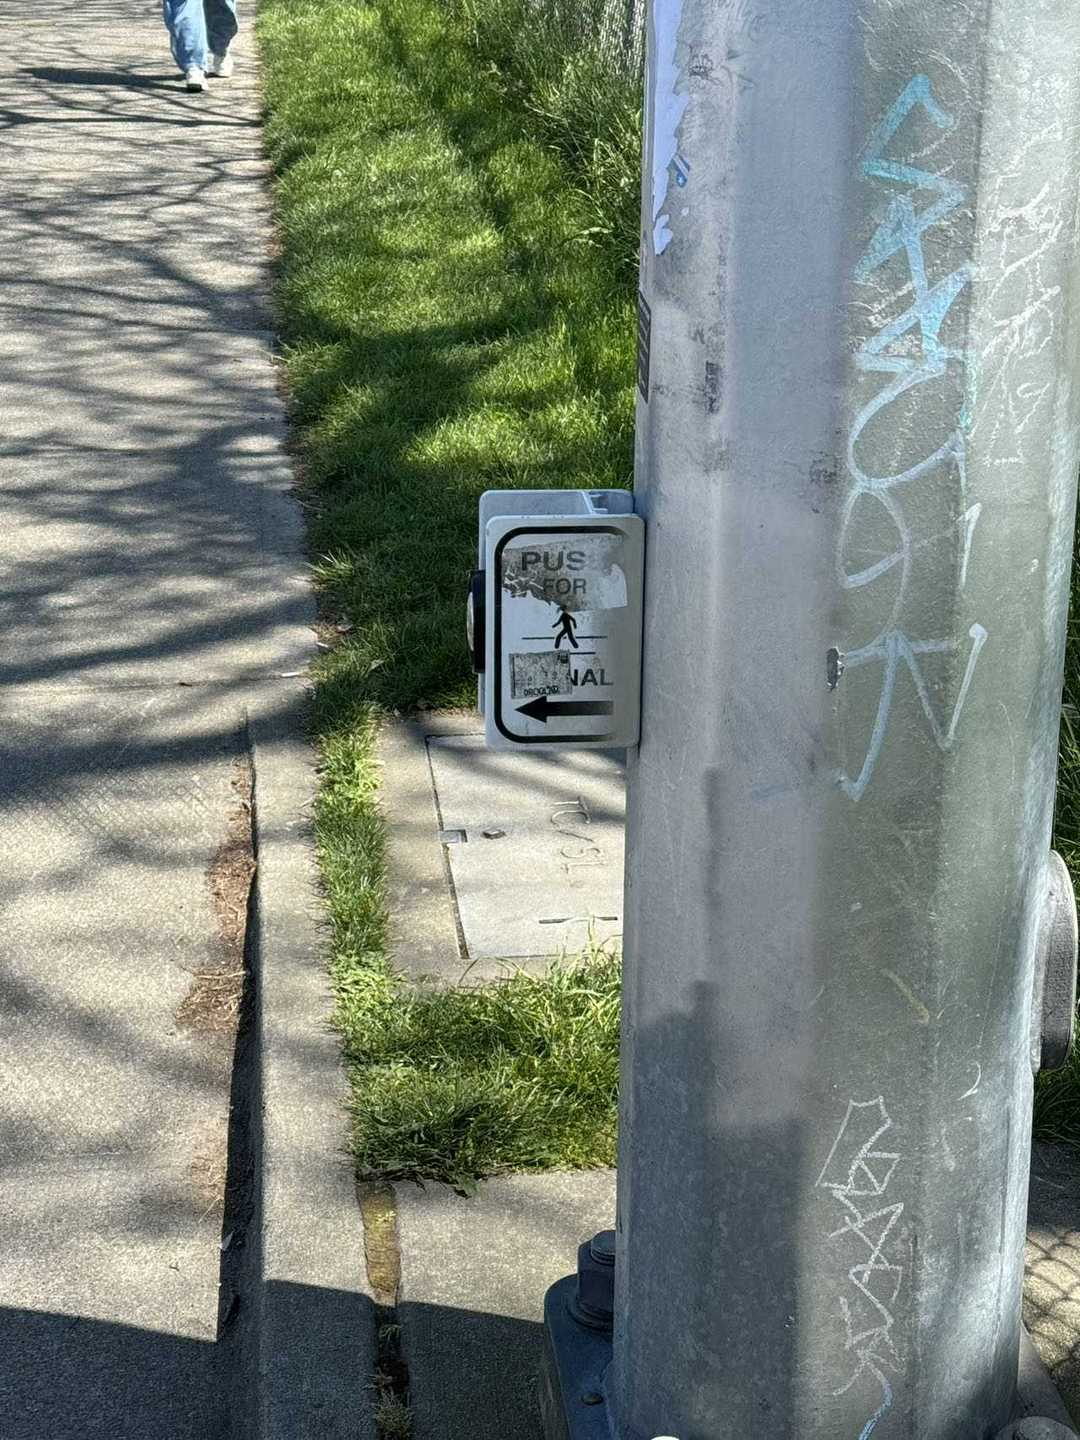ped_button: (465, 485, 644, 748)
